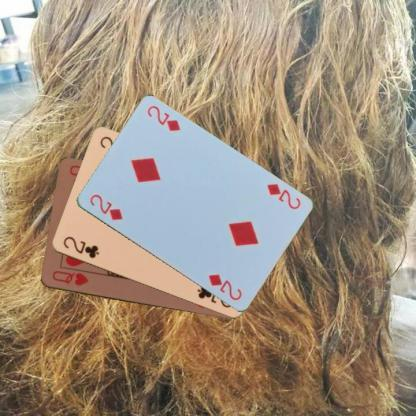2c: (60, 233, 100, 260)
2d: (86, 191, 124, 222), (264, 181, 302, 211)
Qh: (49, 268, 90, 287)
